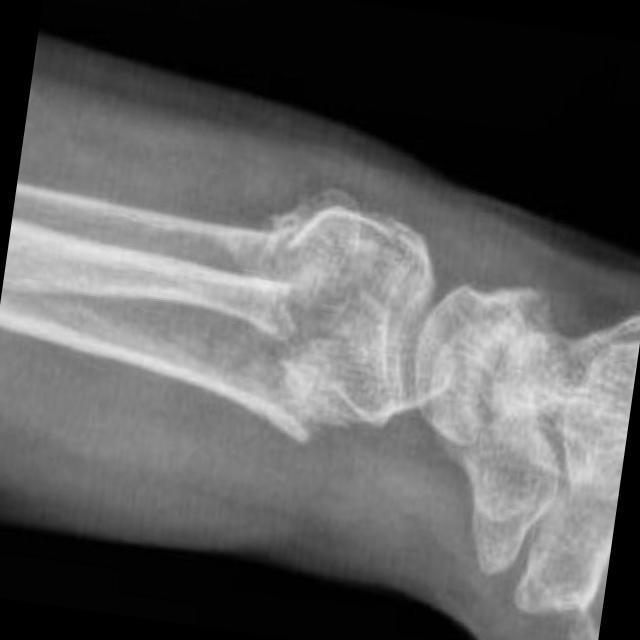bone: (132, 164, 460, 466)
